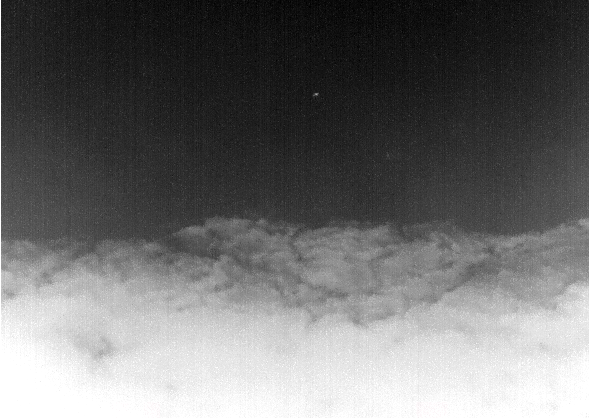dim target: (312, 92, 319, 97)
